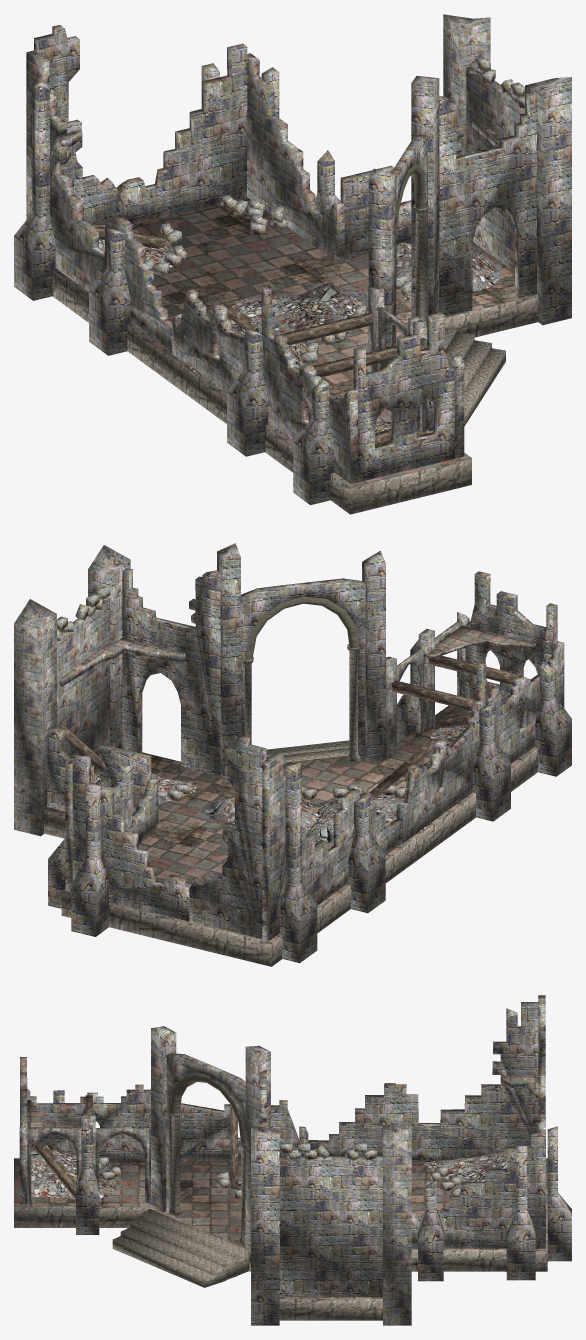
Rendered from cathedral.glb.
The picture shows the model from 3 angles, top to bottom: view 1: azimuth 30°, elevation 25°; view 2: azimuth 150°, elevation 25°; view 3: azimuth 270°, elevation 25°; orthographic projection. The views are drawn at different scales.
Visible parts, largest first — view 1: Silvermere cathedral ruin; view 2: Silvermere cathedral ruin; view 3: Silvermere cathedral ruin.
Part boxes in pixels (x1,y1,x2,y2): Silvermere cathedral ruin: (14, 14, 571, 514); Silvermere cathedral ruin: (14, 543, 571, 966); Silvermere cathedral ruin: (14, 995, 571, 1325).
Size of the model in its own units: 19.18 by 12.99 by 29.46.
6 materials, 6 textured.
